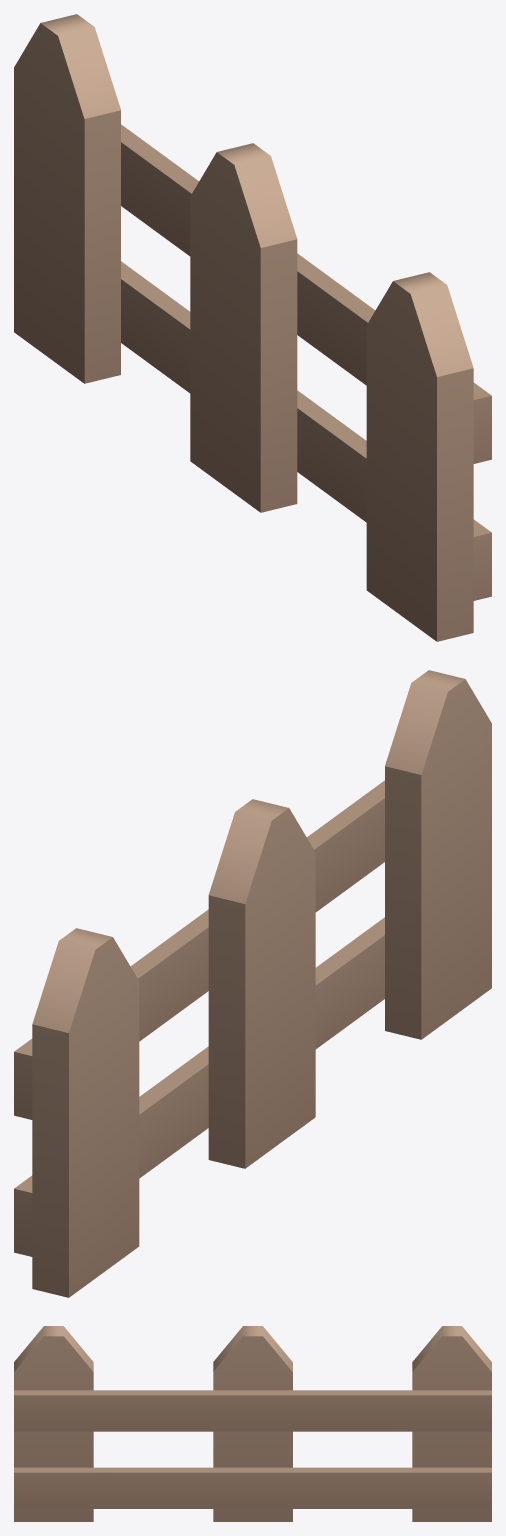
File: fence-picket-low.glb
The picture shows the model from 3 angles, top to bottom: view 1: azimuth 30°, elevation 25°; view 2: azimuth 150°, elevation 25°; view 3: azimuth 270°, elevation 25°; orthographic projection. The views are drawn at different scales.
Visible parts, largest first — view 1: fence-picket-low; view 2: fence-picket-low; view 3: fence-picket-low.
Boxes of the visible parts, x1,y1,x2,y2 form: fence-picket-low: (14,14,491,641); fence-picket-low: (14,670,491,1297); fence-picket-low: (14,1326,491,1521).
Size of the model in its own units: 0.0945 by 0.54 by 1.26.
